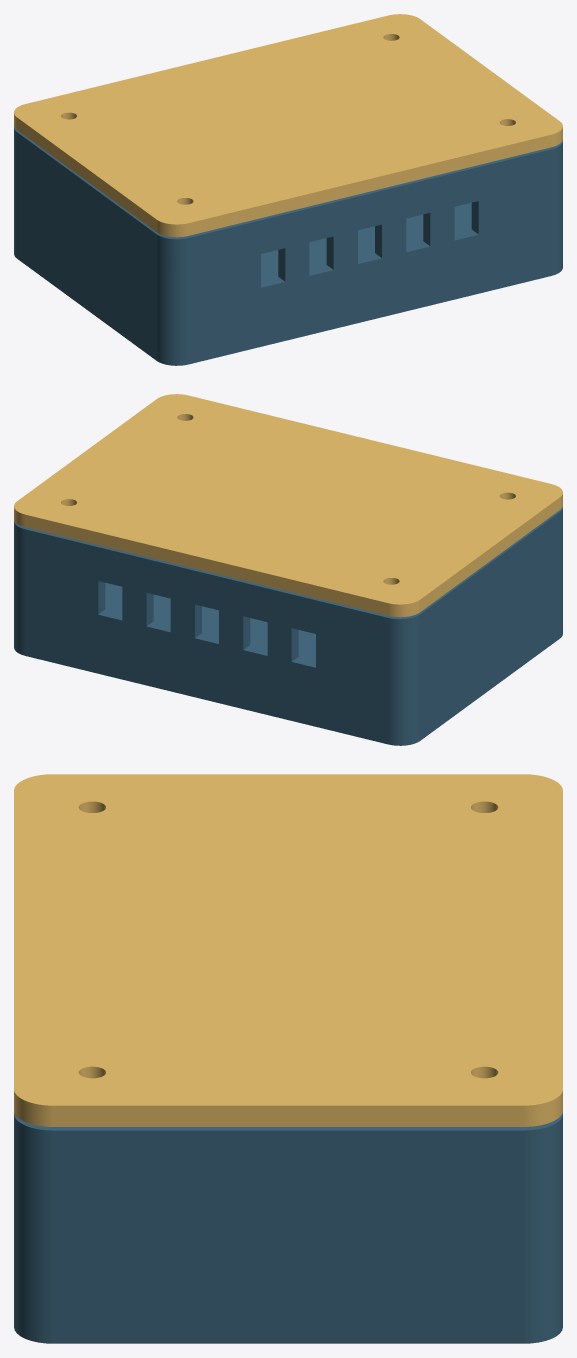
The model's file is enclosure_assembly.glb.
3 renders of one model, top to bottom at view 1: azimuth 30°, elevation 25°; view 2: azimuth 150°, elevation 25°; view 3: azimuth 270°, elevation 25°, orthographic. The views are drawn at different scales.
Parts seen in each view (by area): view 1: enclosure_assembly (×2); view 2: enclosure_assembly (×2); view 3: enclosure_assembly (×2).
Part boxes in pixels (<box>): enclosure_assembly (×2): <box>14,14,562,365</box>; enclosure_assembly (×2): <box>14,394,562,745</box>; enclosure_assembly (×2): <box>14,774,562,1343</box>.
Size of the model in its own units: 0.1 by 0.0335 by 0.07.
